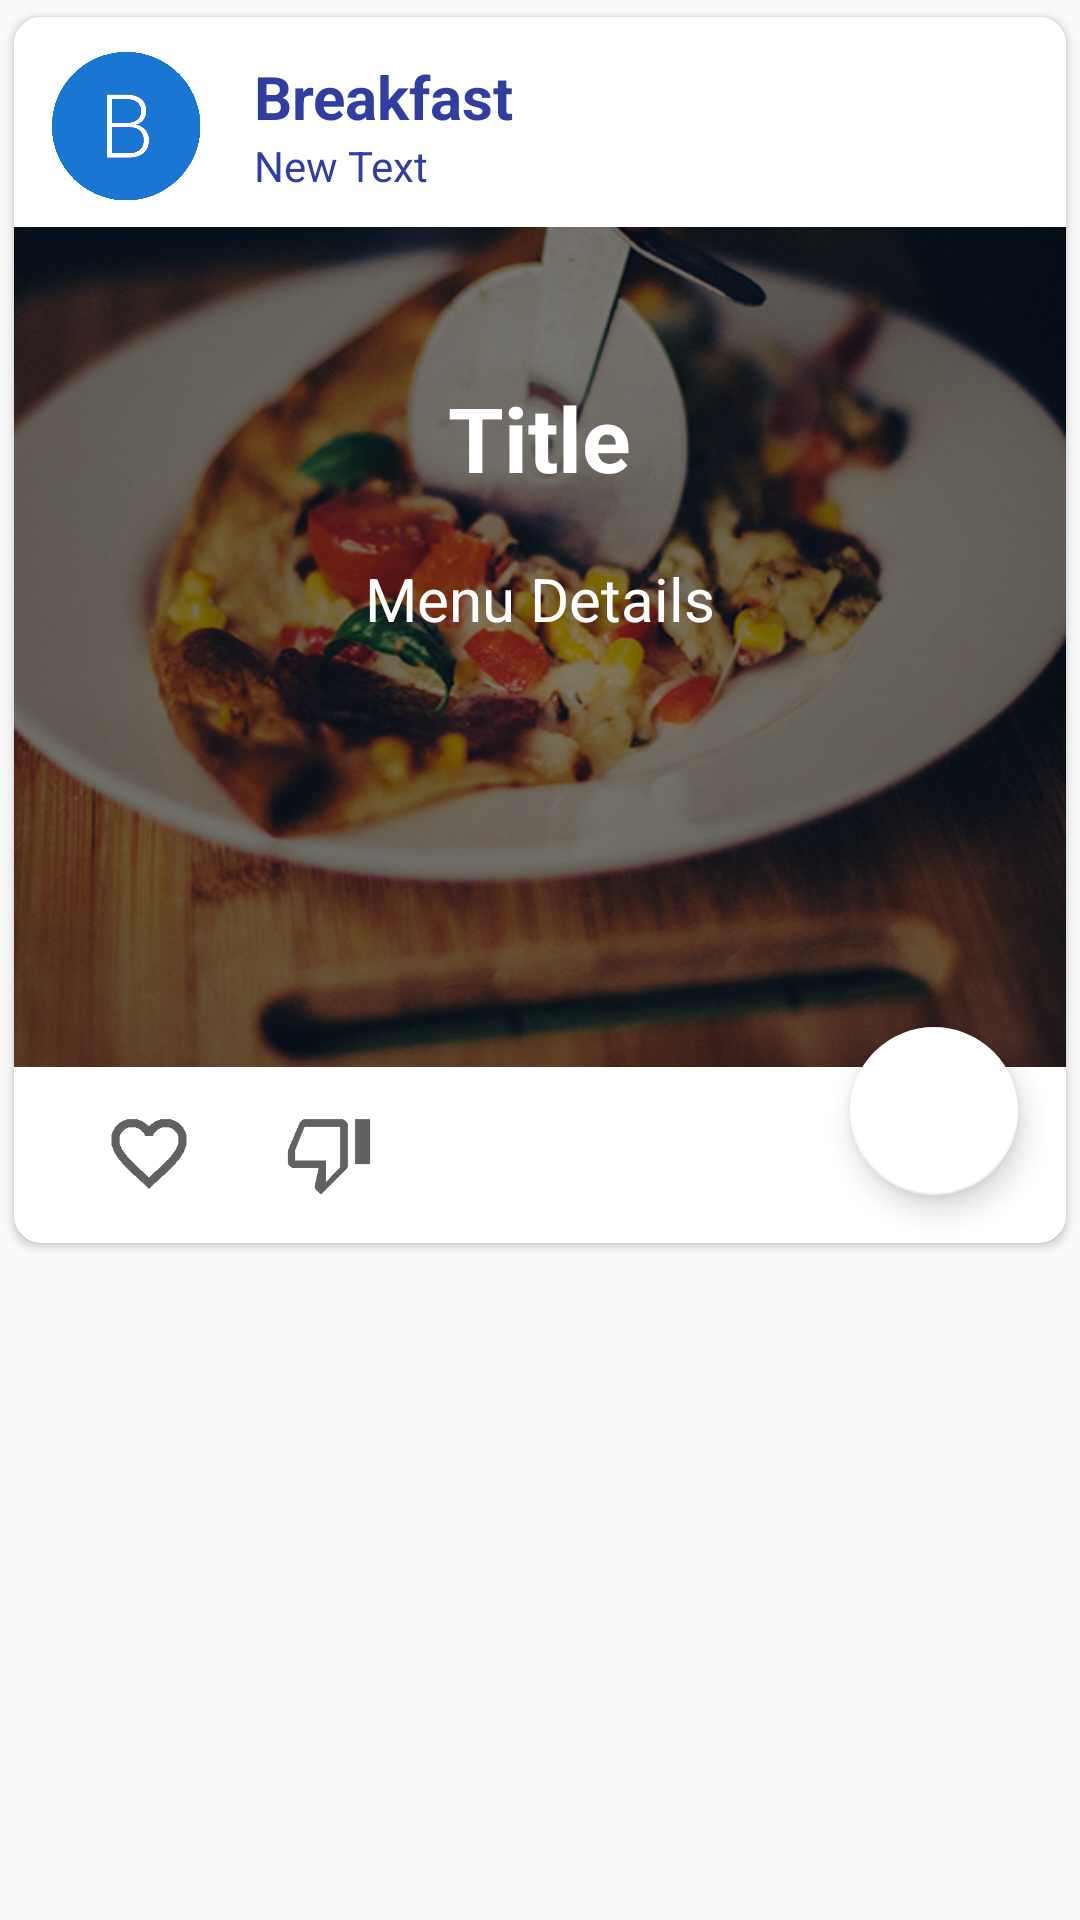

Icons on this 1080 × 1920 Android screen, each with its box as (x1, y1, x2, y2):
favorite border: (111, 1119, 187, 1189)
thumb down border: (288, 1119, 370, 1194)
